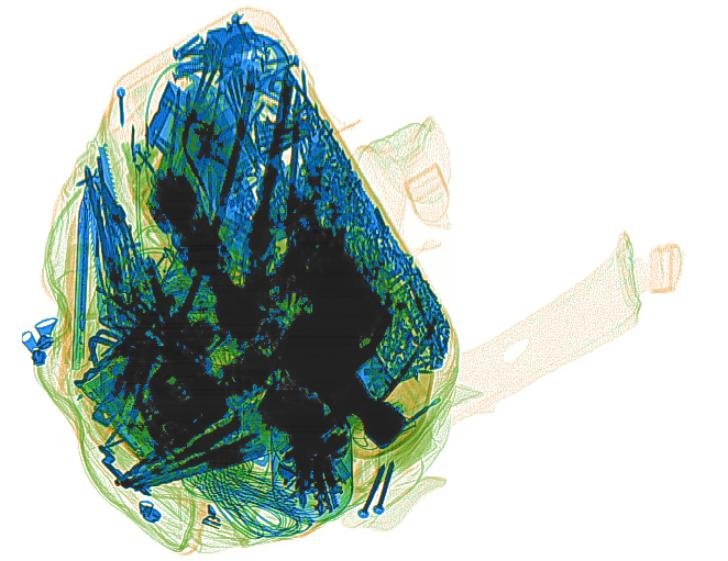knife: (69, 194, 90, 371)
